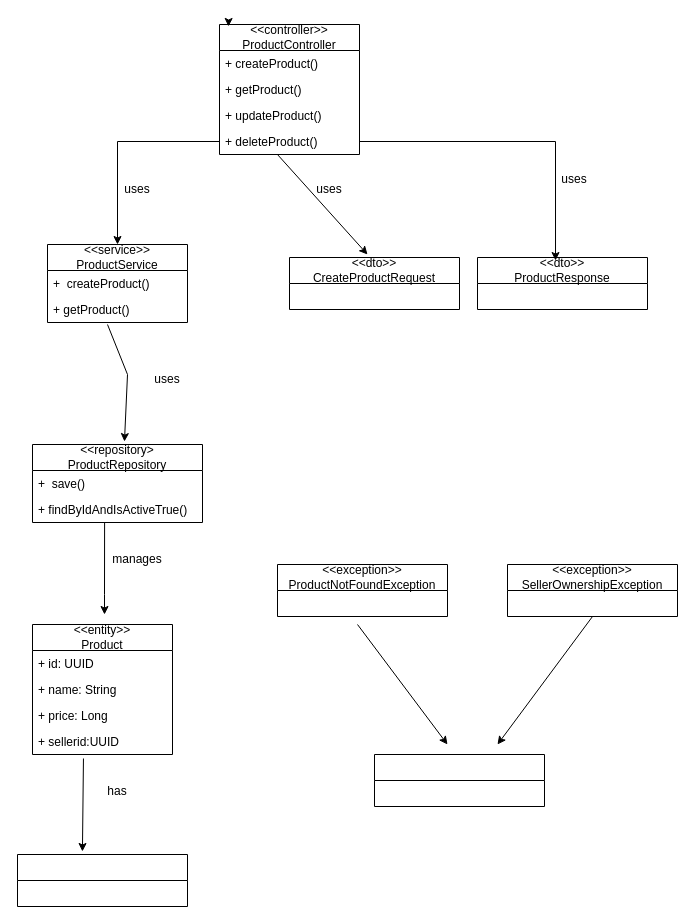
Image size: 695x924. Some labels were removed from this diagram. The shapes that lost their labels are listed below. From the top down, each one's centre as x and y in pixels, then its label:
At point (459, 780): "<<advice>> GlobalExceptionHandler".
At point (102, 880): "<<enum>> ProductCategory".
